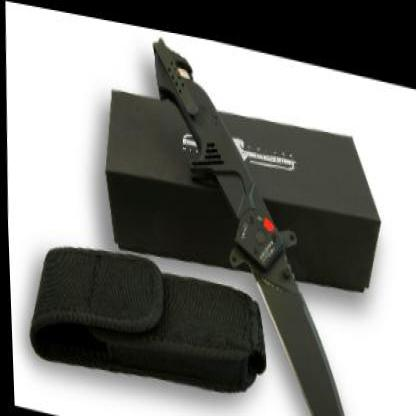knife: (239, 218, 360, 412)
